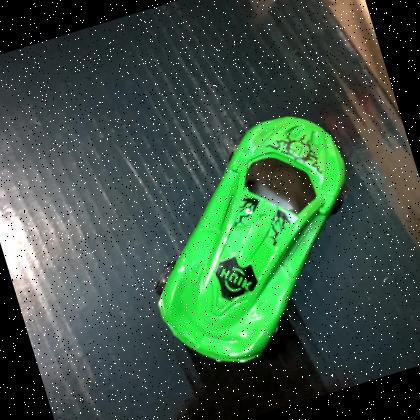Car: (114, 101, 396, 386)
